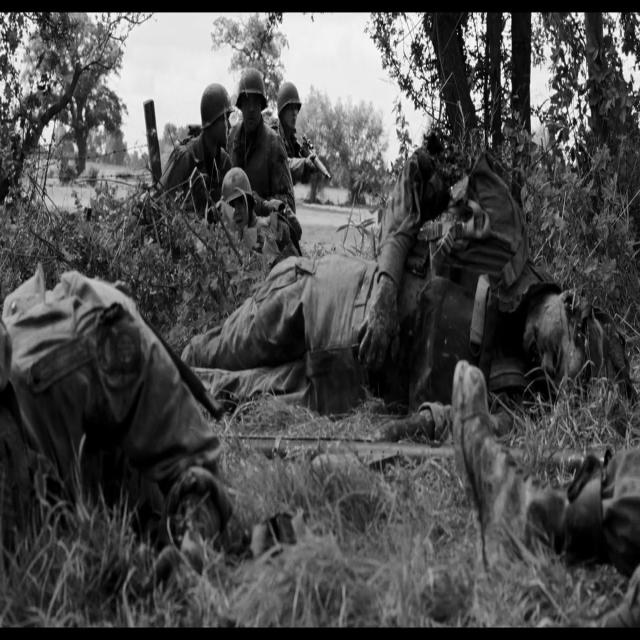Rifle: (230, 421, 622, 489)
Sniper: (298, 129, 335, 174)
